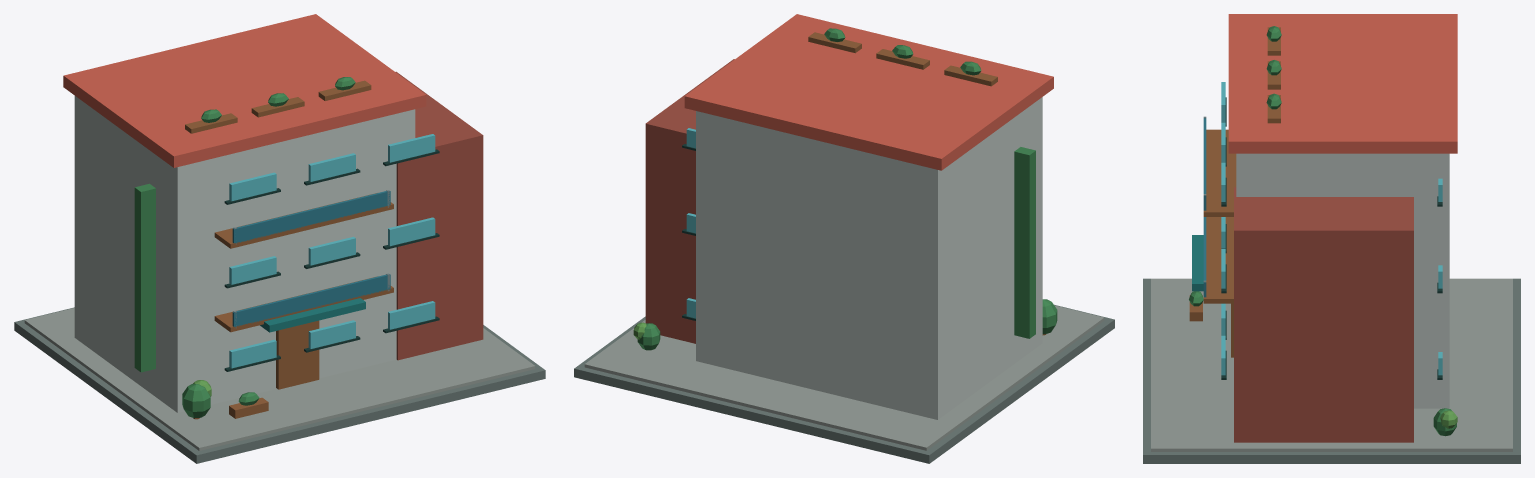
The model's file is house_lv5.glb.
3 renders of one model, left to right at view 1: azimuth 30°, elevation 25°; view 2: azimuth 150°, elevation 25°; view 3: azimuth 270°, elevation 25°, orthographic. The views are drawn at different scales.
Visible parts, largest first — view 1: rough, glossy; view 2: rough, glossy; view 3: rough, glossy.
Part boxes in pixels (x1,y1,x2,y2): rough: (14,14,545,463); glossy: (229,134,435,368); rough: (574,14,1114,463); glossy: (686,128,695,318); rough: (1143,14,1520,463); glossy: (1203,82,1442,375).
Size of the model in its own units: 9.4 by 7.42 by 8.5.
